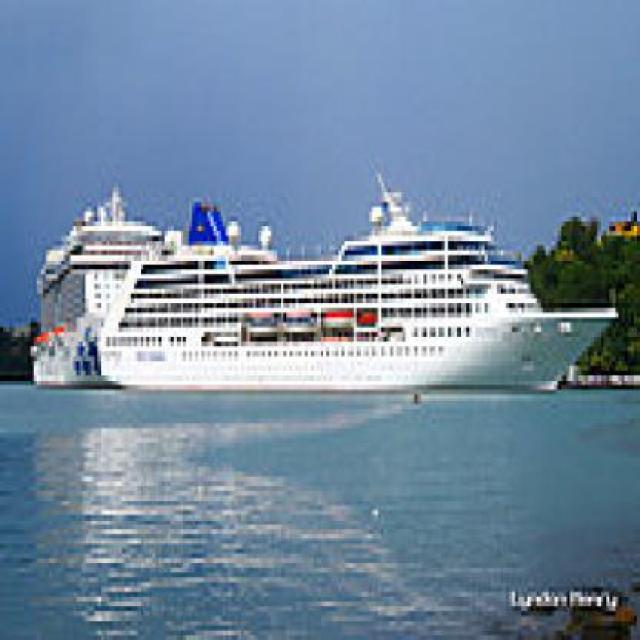cruise: (90, 150, 630, 410)
